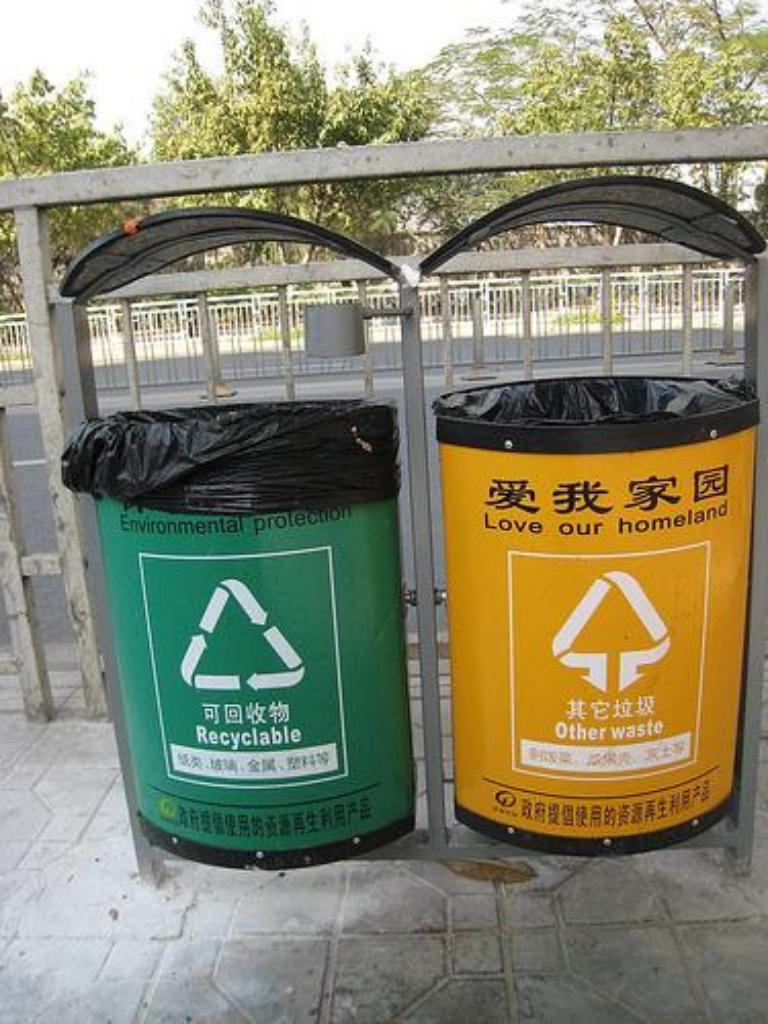dustbin: (49, 206, 768, 862)
